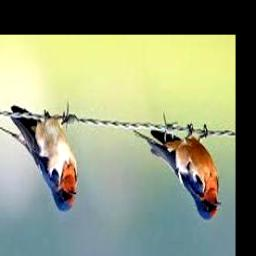Swallow: (134, 126, 224, 221), (0, 106, 79, 212)
